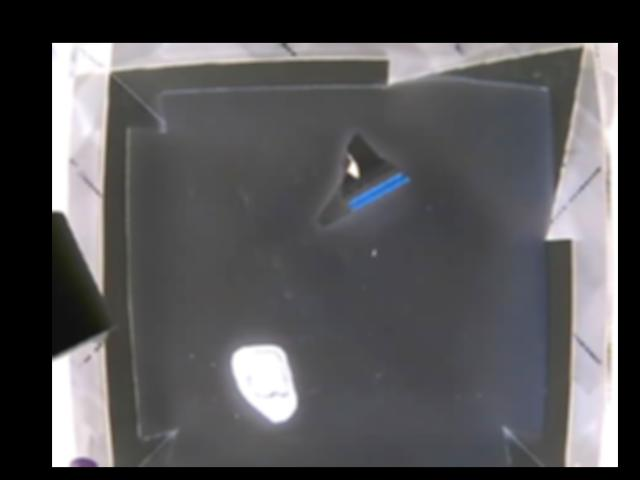China: (308, 132, 411, 226)
Pebble: (227, 342, 297, 425)
